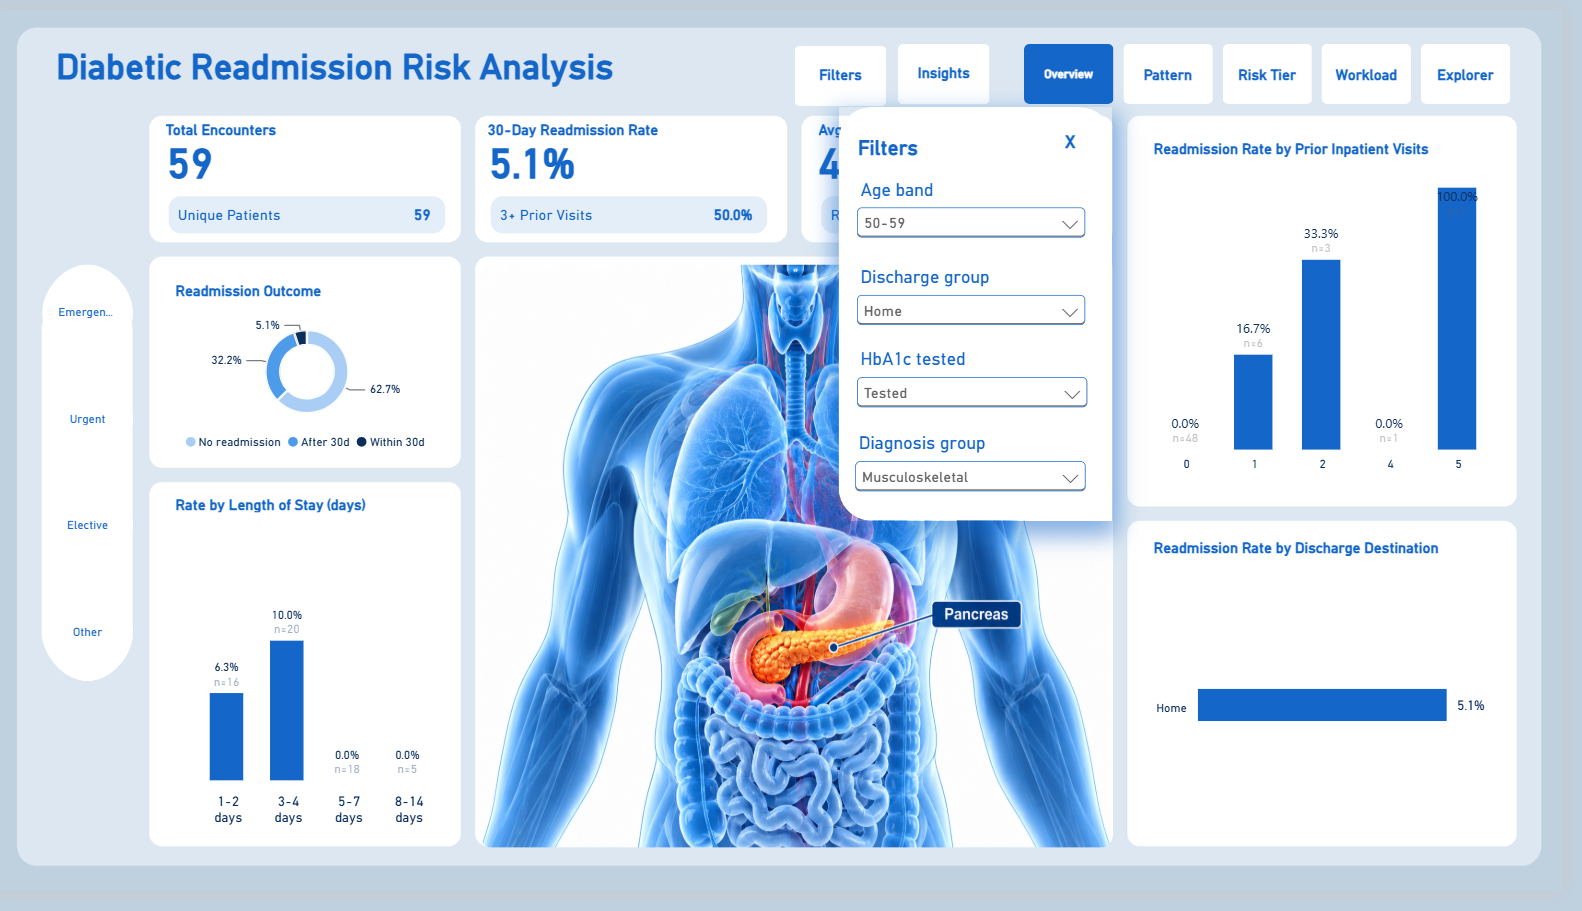

Layout of this report page (visuals, bound fields, positions):
{"tool":"powerbi","page":{"name":"Overview","canvas":[1280,720],"ordinal":0},"visuals":[{"type":"textbox","box":[50.5,29.7,529.2,55],"z":0},{"type":"cardVisual","title":"Total Encounters","fields":{"Data":["_Measures.Encounters (Included)"]},"box":[131,93,246,100],"z":1000},{"type":"cardVisual","title":"Total Encounters","fields":{"Data":["_Measures.Readmission Rate"]},"box":[394.3,93.5,246,100],"z":2000},{"type":"cardVisual","title":"Total Encounters","fields":{"Data":["_Measures.Avg Length of Stay"]},"box":[664.5,93.5,246,100],"z":3000},{"type":"donutChart","title":"Readmission Outcome","fields":{"Category":["Encounters.Readmission Outcome"],"Y":["_Measures.Encounters (Included)"]},"box":[130.9,209,246.4,173.4],"z":4000},{"type":"clusteredColumnChart","title":"Rate by Length of Stay (days)","fields":{"Category":["Encounters.los_band"],"Y":["_Measures.Readmission Rate"]},"box":[130.9,382.4,246.4,302.5],"z":5000},{"type":"clusteredColumnChart","title":"Readmission Rate by Prior Inpatient Visits","fields":{"Category":["Encounters.Prior Visits Label"],"Y":["_Measures.Readmission Rate"]},"box":[929.7,93.5,307.6,302.5],"z":6000},{"type":"clusteredBarChart","title":"Readmission Rate by Discharge Destination","fields":{"Category":["Discharge Destination.Discharge Group"],"Y":["_Measures.Readmission Rate"]},"box":[929.7,418.1,307.6,266.8],"z":7000},{"type":"image","box":[395.1,209,516.7,475.9],"z":8000},{"type":"pageNavigator","box":[839.6,28.9,397.7,49.3],"z":9000},{"type":"actionButton","title":"Insight","box":[737.6,28.9,74.8,49.3],"z":10000},{"type":"actionButton","title":"Filter","box":[652.6,30.6,74.8,49.3],"z":11000},{"type":"textbox","box":[100,100,300,300],"z":12000},{"type":"textbox","box":[100,100,300,300],"z":13000},{"type":"textbox","box":[100,100,300,300],"z":15000},{"type":"advancedSlicerVisual","fields":{"Values":["Admission Type.Admission Strip"]},"box":[39,209,74,343],"z":17000}]}

Visuals, with their boxes in screenshot pixels (x1, y1, x2, y2), scaled from the page's 1280x720 canvas onto the 1582x911 screenshot:
textbox: 62:38:716:107
"Total Encounters" cardVisual: 162:118:466:244
"Total Encounters" cardVisual: 487:118:791:245
"Total Encounters" cardVisual: 821:118:1125:245
"Readmission Outcome" donutChart: 162:264:466:484
"Rate by Length of Stay (days)" clusteredColumnChart: 162:484:466:867
"Readmission Rate by Prior Inpatient Visits" clusteredColumnChart: 1149:118:1529:501
"Readmission Rate by Discharge Destination" clusteredBarChart: 1149:529:1529:867
image: 488:264:1127:867
pageNavigator: 1038:37:1529:99
"Insight" actionButton: 912:37:1004:99
"Filter" actionButton: 807:39:899:101
textbox: 124:127:494:506
textbox: 124:127:494:506
textbox: 124:127:494:506
advancedSlicerVisual - Admission Type.Admission Strip: 48:264:140:698
